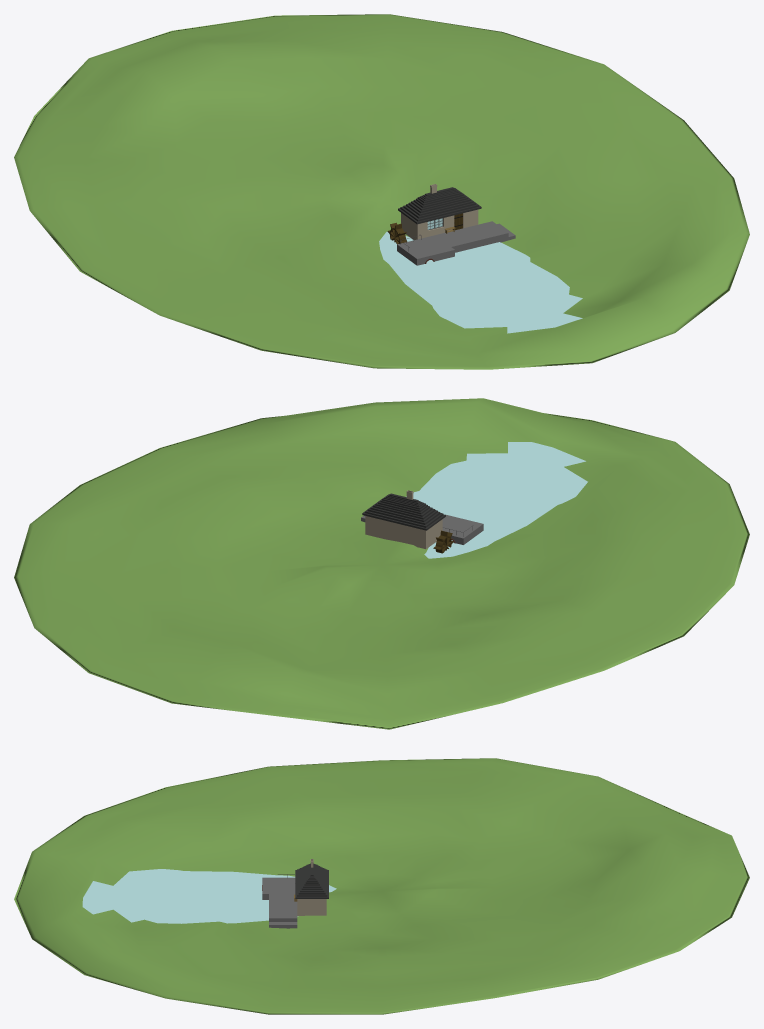
The picture shows the model from 3 angles, top to bottom: view 1: azimuth 30°, elevation 25°; view 2: azimuth 150°, elevation 25°; view 3: azimuth 270°, elevation 25°; orthographic projection. The views are drawn at different scales.
Visible parts, largest first — view 1: hill, water, housebase, polySurface1; view 2: hill, water, housebase, polySurface1; view 3: hill, water, housebase, polySurface1.
Part boxes in pixels (left/top/right/bottom): hill: left=14, top=14, right=749, bottom=369; water: left=379, top=231, right=582, bottom=333; housebase: left=398, top=184, right=481, bottom=240; polySurface1: left=397, top=221, right=515, bottom=265; hill: left=14, top=398, right=749, bottom=729; water: left=406, top=442, right=587, bottom=558; housebase: left=362, top=490, right=445, bottom=549; polySurface1: left=361, top=515, right=483, bottom=544; hill: left=14, top=758, right=749, bottom=1014; water: left=82, top=869, right=336, bottom=923; housebase: left=295, top=859, right=328, bottom=915; polySurface1: left=262, top=877, right=297, bottom=928.
Size of the model in its own units: 60.89 by 5.69 by 73.43.
